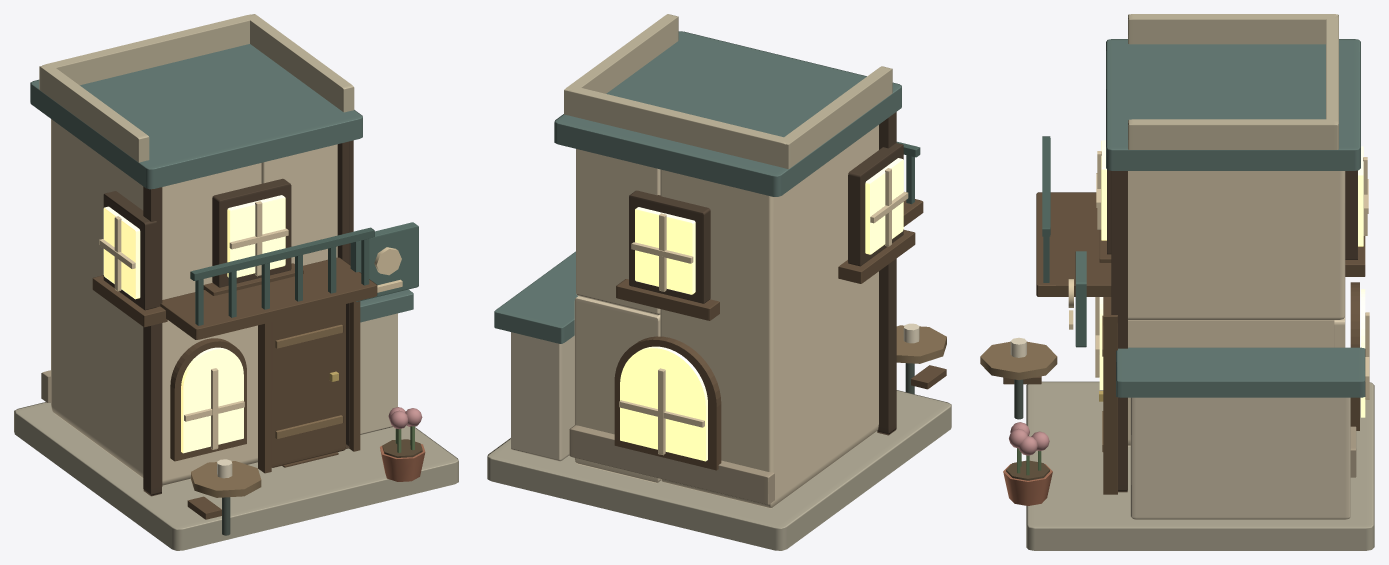
File: cafe-3.glb
3 views of the same model, side by side, from view 1: azimuth 30°, elevation 25°; view 2: azimuth 150°, elevation 25°; view 3: azimuth 270°, elevation 25° (orthographic). The views are drawn at different scales.
Parts seen in each view (by area): view 1: cafe-3-0, door-hinge; view 2: cafe-3-0; view 3: cafe-3-0.
Boxes of the visible parts, left/top/right/bottom form: cafe-3-0: left=14, top=14, right=458, bottom=550; door-hinge: left=271, top=304, right=345, bottom=467; cafe-3-0: left=487, top=14, right=951, bottom=550; cafe-3-0: left=980, top=14, right=1374, bottom=550.
Size of the model in its own units: 1.9 by 2.38 by 2.15.
